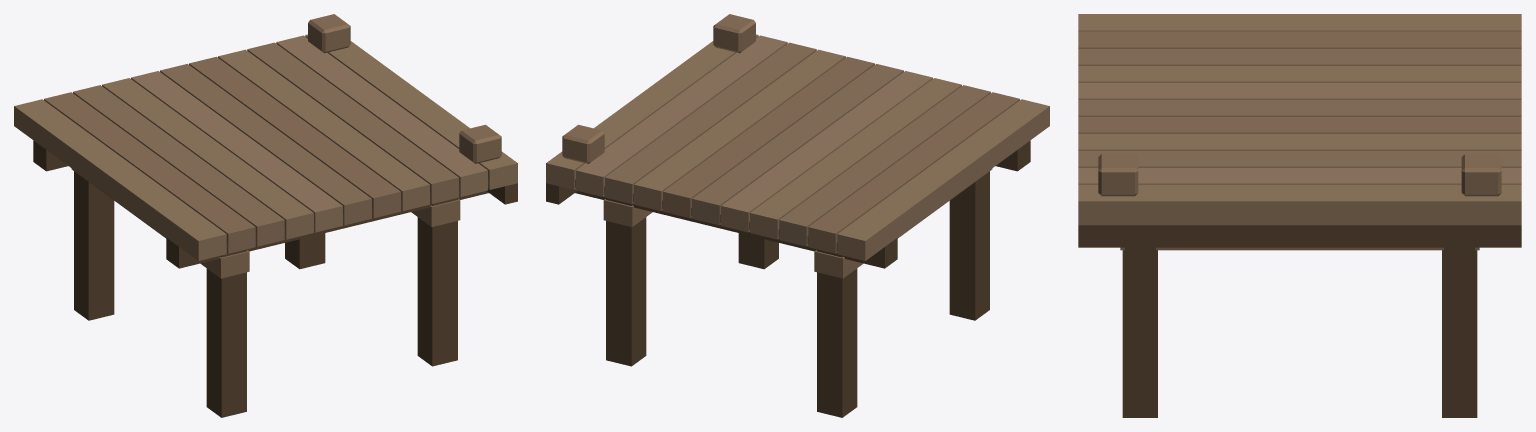
File: coast_dock_end.glb
3 views of the same model, side by side, from view 1: azimuth 30°, elevation 25°; view 2: azimuth 150°, elevation 25°; view 3: azimuth 270°, elevation 25° (orthographic). The views are drawn at different scales.
Parts seen in each view (by area): view 1: coast_dock_end; view 2: coast_dock_end; view 3: coast_dock_end.
Boxes of the visible parts, bbox=[...] form: coast_dock_end: bbox=[14, 14, 517, 417]; coast_dock_end: bbox=[546, 14, 1049, 417]; coast_dock_end: bbox=[1078, 14, 1521, 417].
Size of the model in its own units: 2 by 1.34 by 2.
